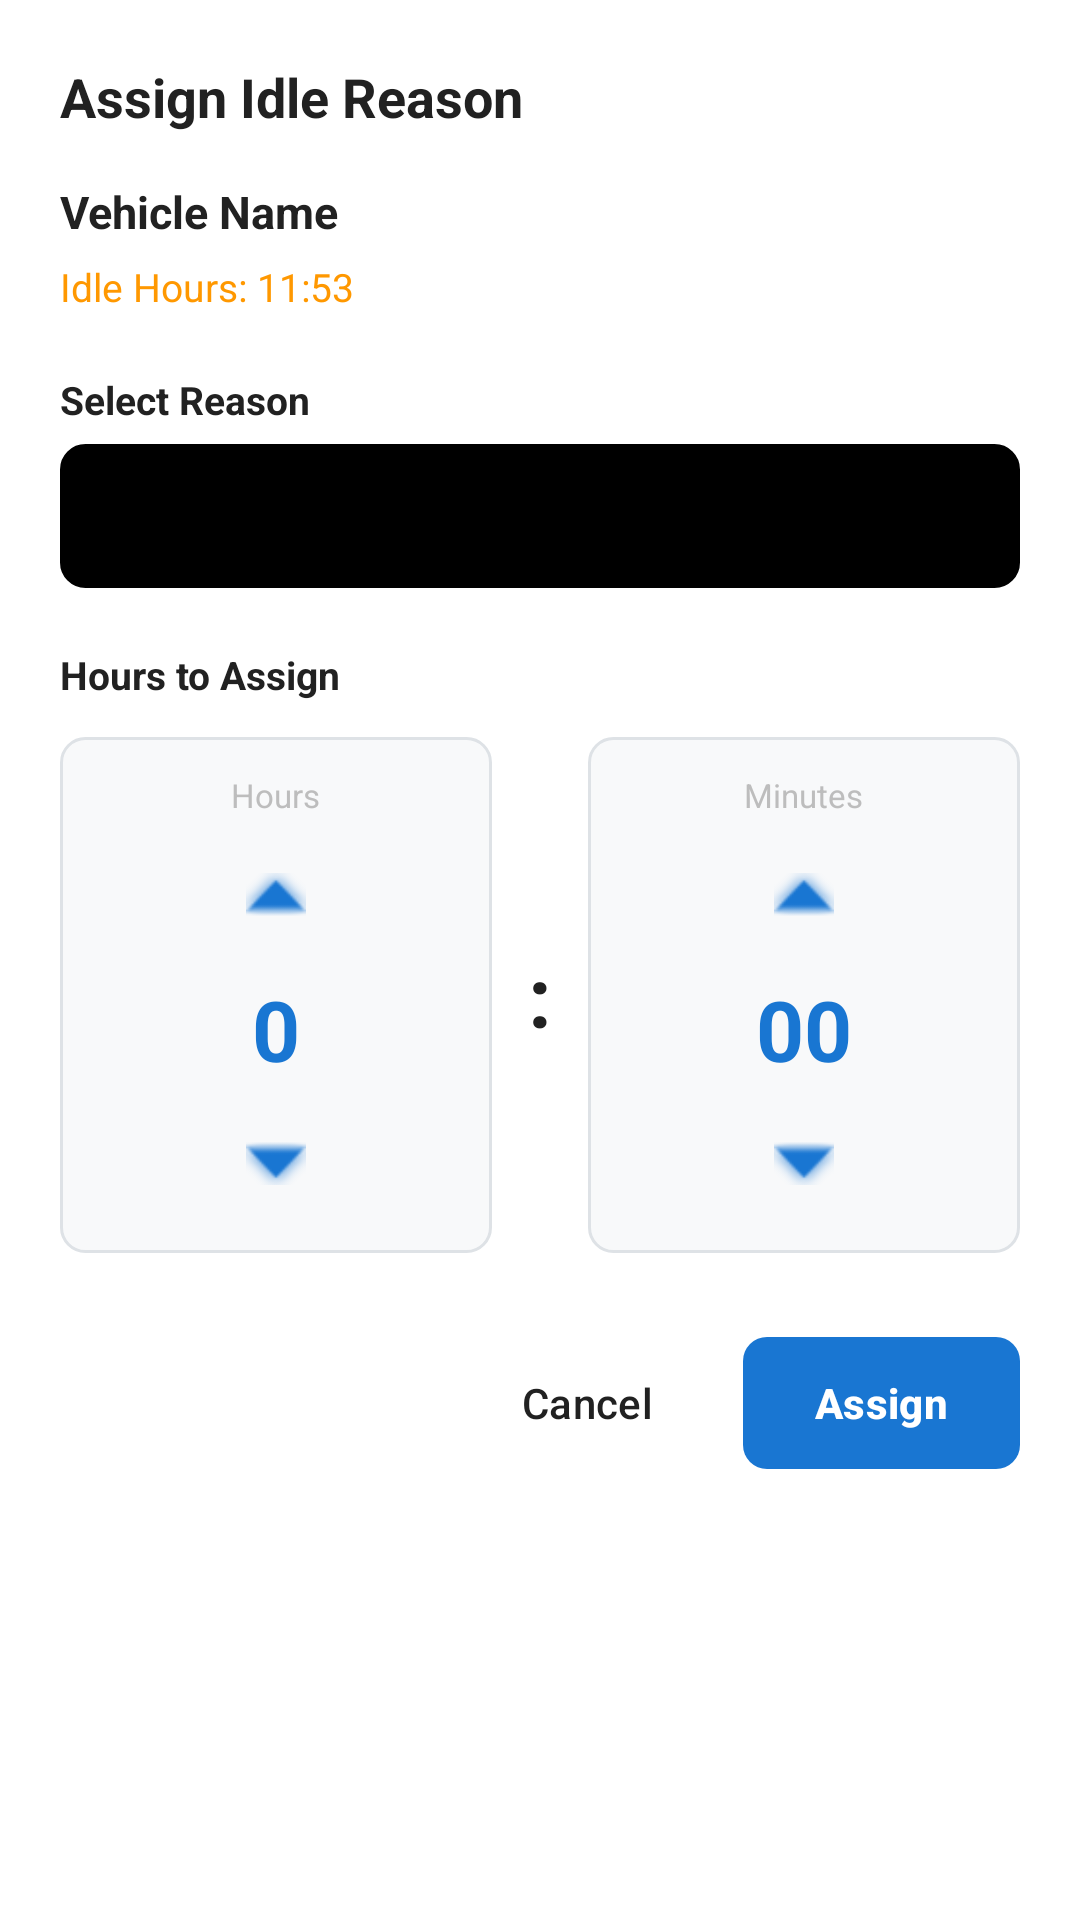

Locate icon controls on the screen. Image size 1080*1920, boxes as (x1, y1, x2, y2).
Decrease hours: (246, 1143, 306, 1183)
Decrease minutes: (774, 1143, 834, 1183)
